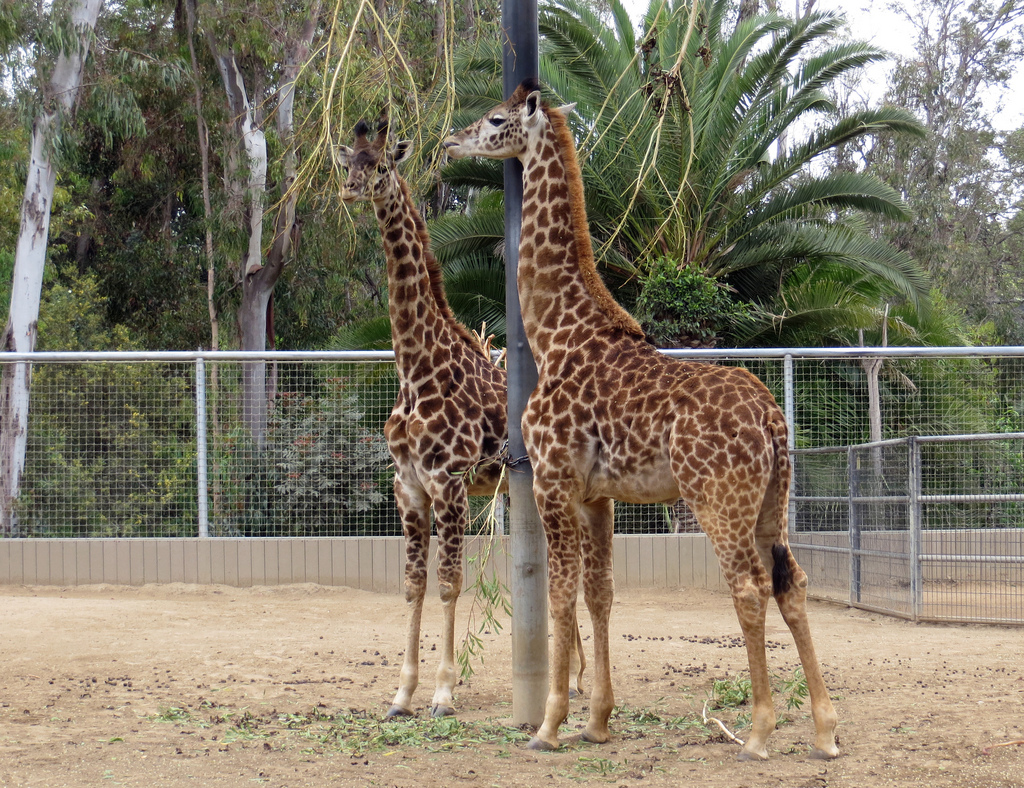giraffe: (428, 84, 871, 770), (306, 107, 530, 699)
